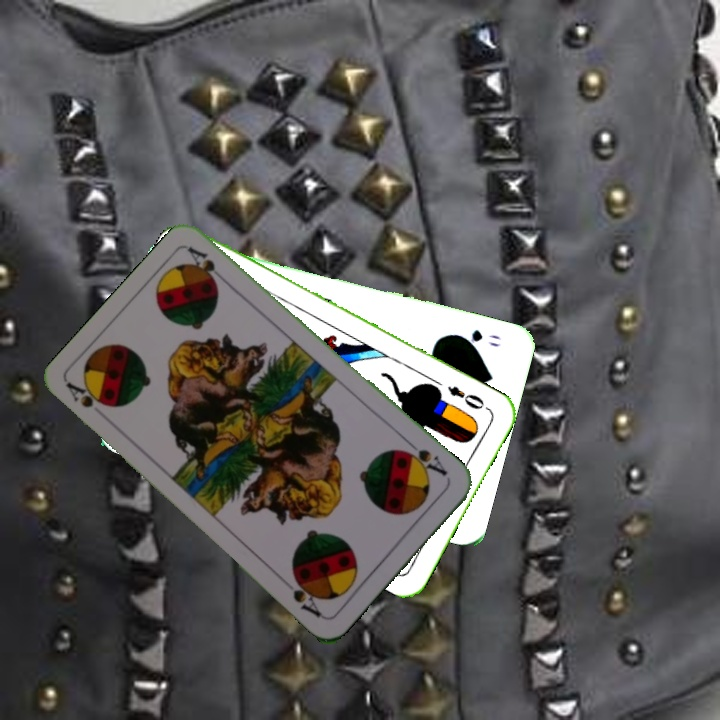EO: (443, 381, 492, 413)
GO: (450, 325, 503, 350)
SA: (397, 436, 450, 479), (63, 379, 111, 411)
